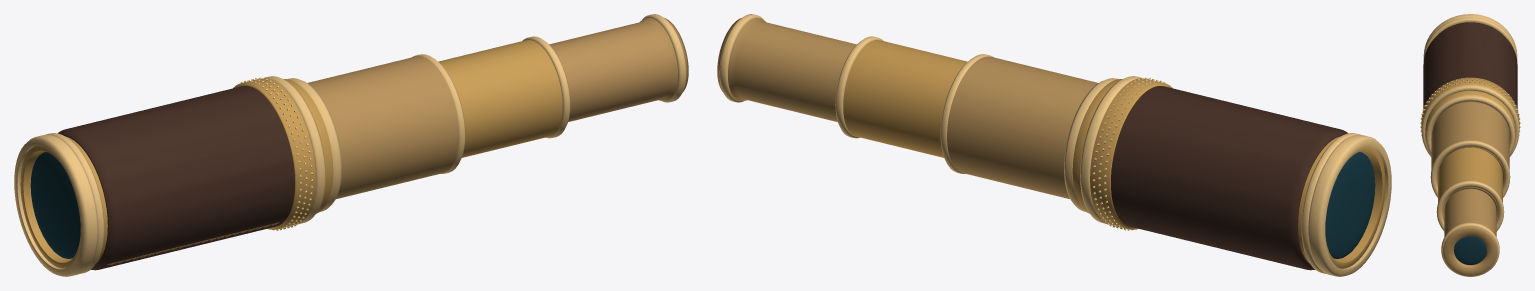
Rendered from spyglass.glb.
3 renders of one model, left to right at view 1: azimuth 30°, elevation 25°; view 2: azimuth 150°, elevation 25°; view 3: azimuth 270°, elevation 25°, orthographic. The views are drawn at different scales.
Parts seen in each view (by area): view 1: chapter-4; view 2: chapter-4; view 3: chapter-4.
Boxes of the visible parts, x1,y1,x2,y2 form: chapter-4: [14, 14, 688, 276]; chapter-4: [717, 14, 1391, 276]; chapter-4: [1420, 14, 1520, 276].
Size of the model in its own units: 2 by 0.4295 by 0.4295.
